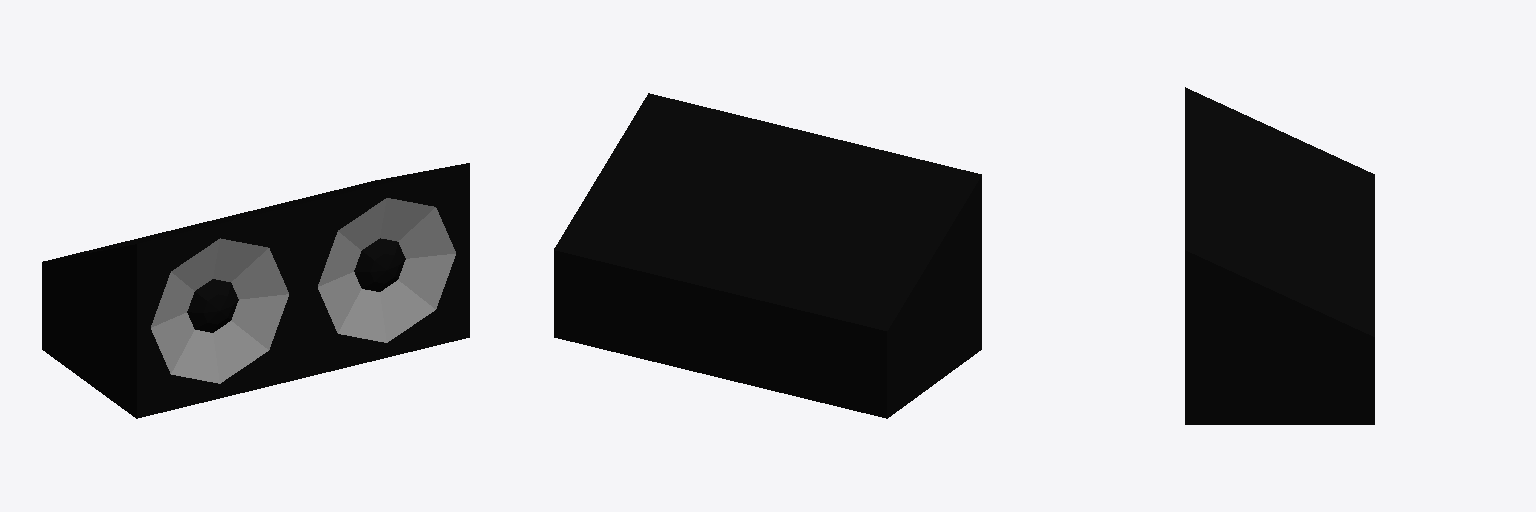
Rendered from speaker_floor.obj.
3 renders of one model, left to right at view 1: azimuth 30°, elevation 25°; view 2: azimuth 150°, elevation 25°; view 3: azimuth 270°, elevation 25°, orthographic.
Visible parts, largest first — view 1: Cube.002; view 2: Cube.002; view 3: Cube.002.
Part boxes in pixels (x1,y1,x2,y2): Cube.002: (42,163,469,418); Cube.002: (554,93,981,418); Cube.002: (1185,87,1374,424).
Bounding box in the file's own units: 1.92 × 0.9618 × 0.9479.